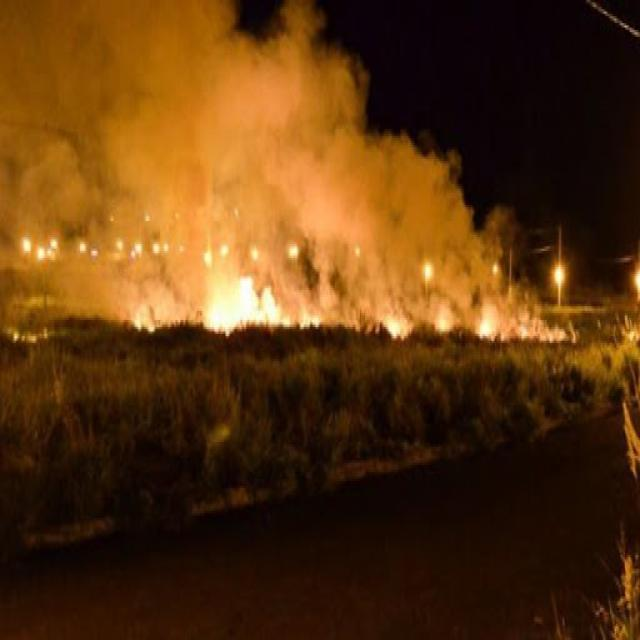Fire: (200, 272, 320, 336), (474, 304, 566, 343), (381, 306, 410, 338), (432, 299, 456, 336)
Smoke: (8, 9, 564, 341), (368, 115, 538, 294), (452, 193, 522, 273)
